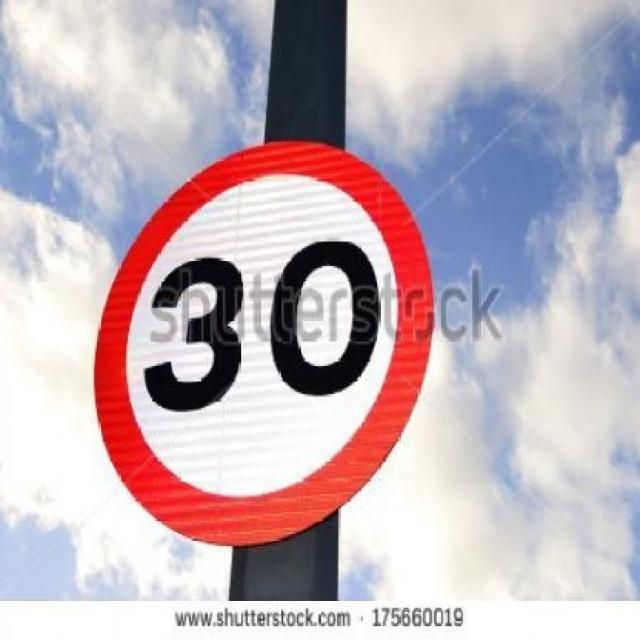forb_speed_over_30: (97, 146, 435, 543)
